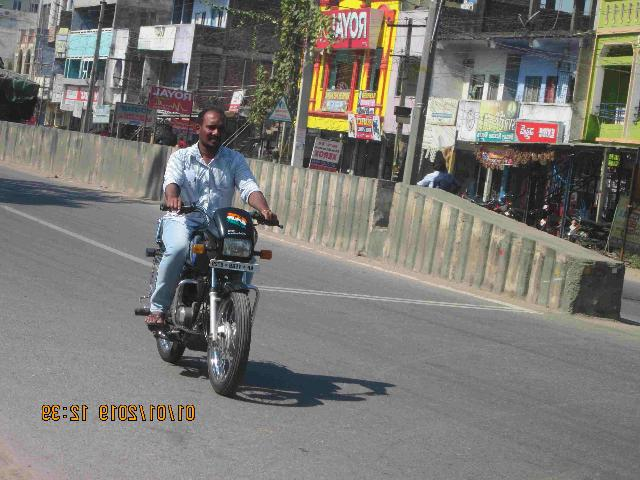motor: (138, 204, 285, 398)
non-helm: (196, 109, 228, 150)
